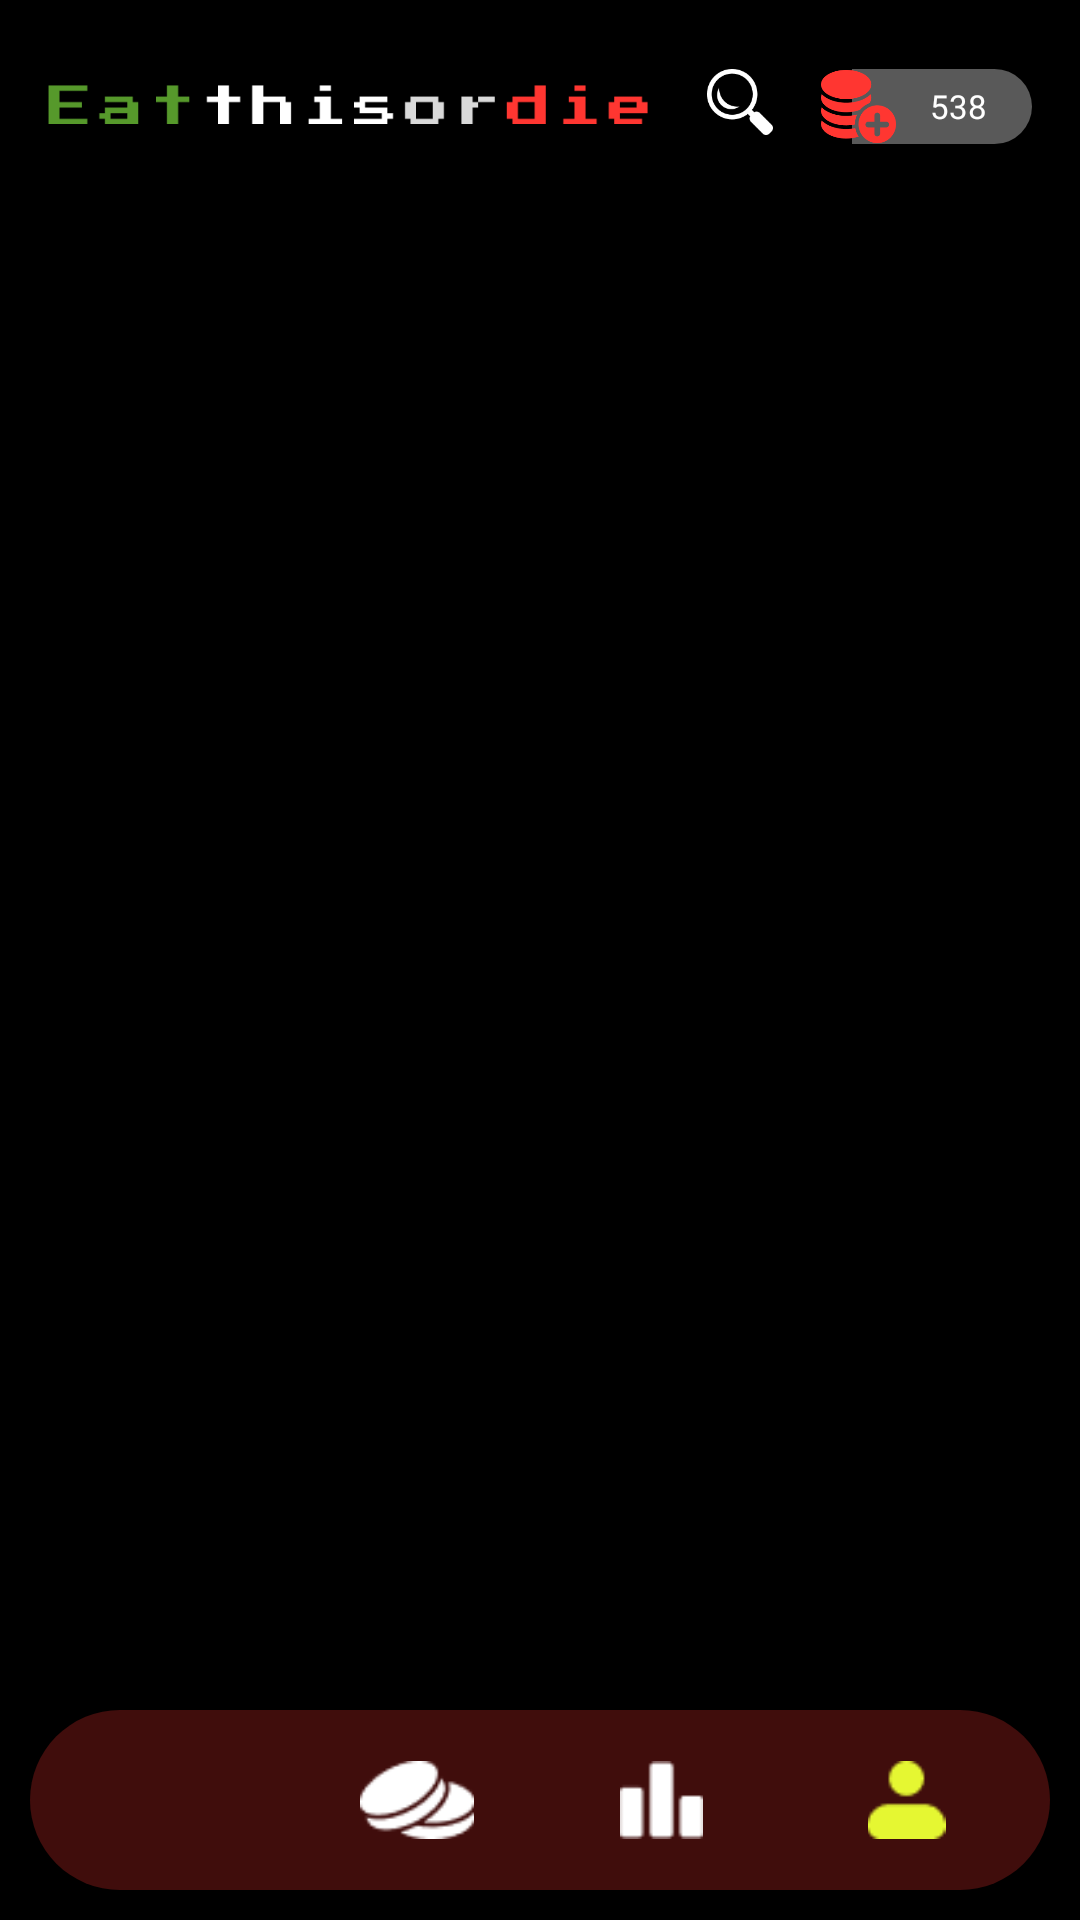

Screen size 1080 x 1920. Icon name, then its box in pixels as bbox=[x1, y1, x2, y2]:
coins: bbox=[821, 69, 896, 144], bbox=[360, 1761, 474, 1839]
profile: bbox=[868, 1761, 946, 1839]
search: bbox=[707, 69, 773, 135]
statistics: bbox=[620, 1761, 703, 1839]
